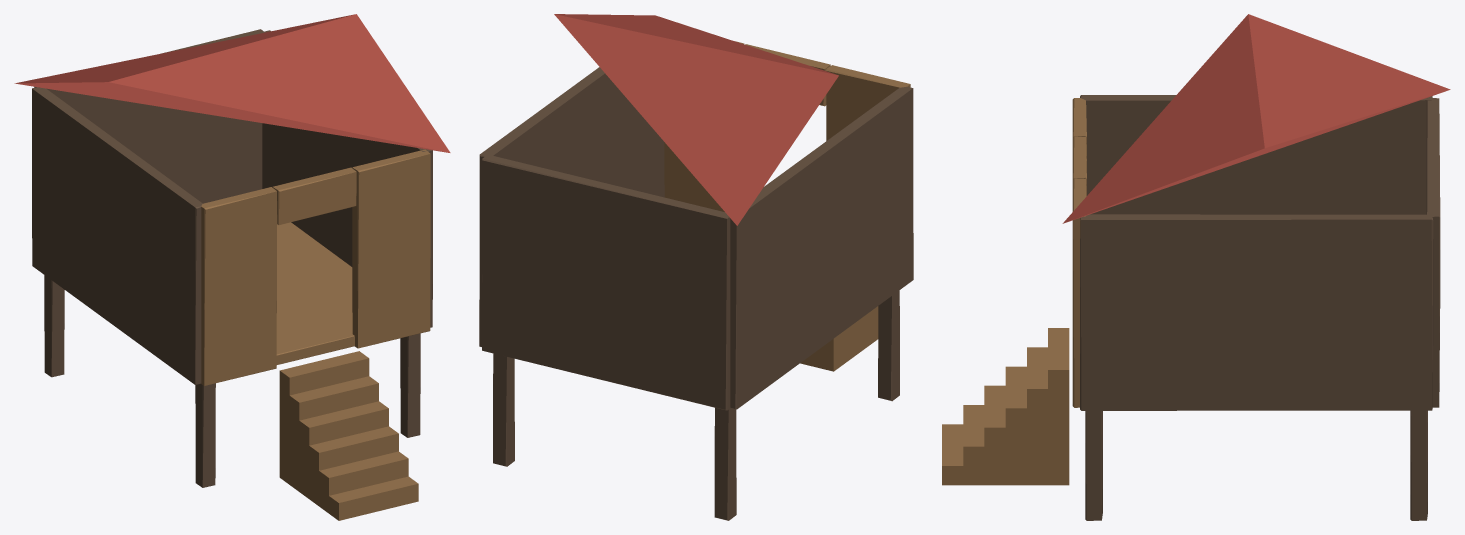
The model's file is harbor-stilt-house.lod1.glb.
3 views of the same model, side by side, from view 1: azimuth 30°, elevation 25°; view 2: azimuth 150°, elevation 25°; view 3: azimuth 270°, elevation 25° (orthographic). The views are drawn at different scales.
Parts seen in each view (by area): view 1: harbor-stilt-house__body, harbor-stilt-house__front-wall, harbor-stilt-house__roof; view 2: harbor-stilt-house__body, harbor-stilt-house__roof, harbor-stilt-house__front-wall; view 3: harbor-stilt-house__body, harbor-stilt-house__roof, harbor-stilt-house__front-wall.
Boxes of the visible parts, x1,y1,x2,y2 form: harbor-stilt-house__body: [32, 29, 432, 520]; harbor-stilt-house__front-wall: [201, 149, 430, 385]; harbor-stilt-house__roof: [14, 14, 450, 152]; harbor-stilt-house__body: [479, 67, 913, 520]; harbor-stilt-house__roof: [554, 14, 838, 225]; harbor-stilt-house__front-wall: [664, 41, 910, 211]; harbor-stilt-house__body: [942, 95, 1440, 520]; harbor-stilt-house__roof: [1062, 14, 1450, 223]; harbor-stilt-house__front-wall: [1072, 98, 1086, 407].
Size of the model in its own units: 4.5 by 5.98 by 7.2.
